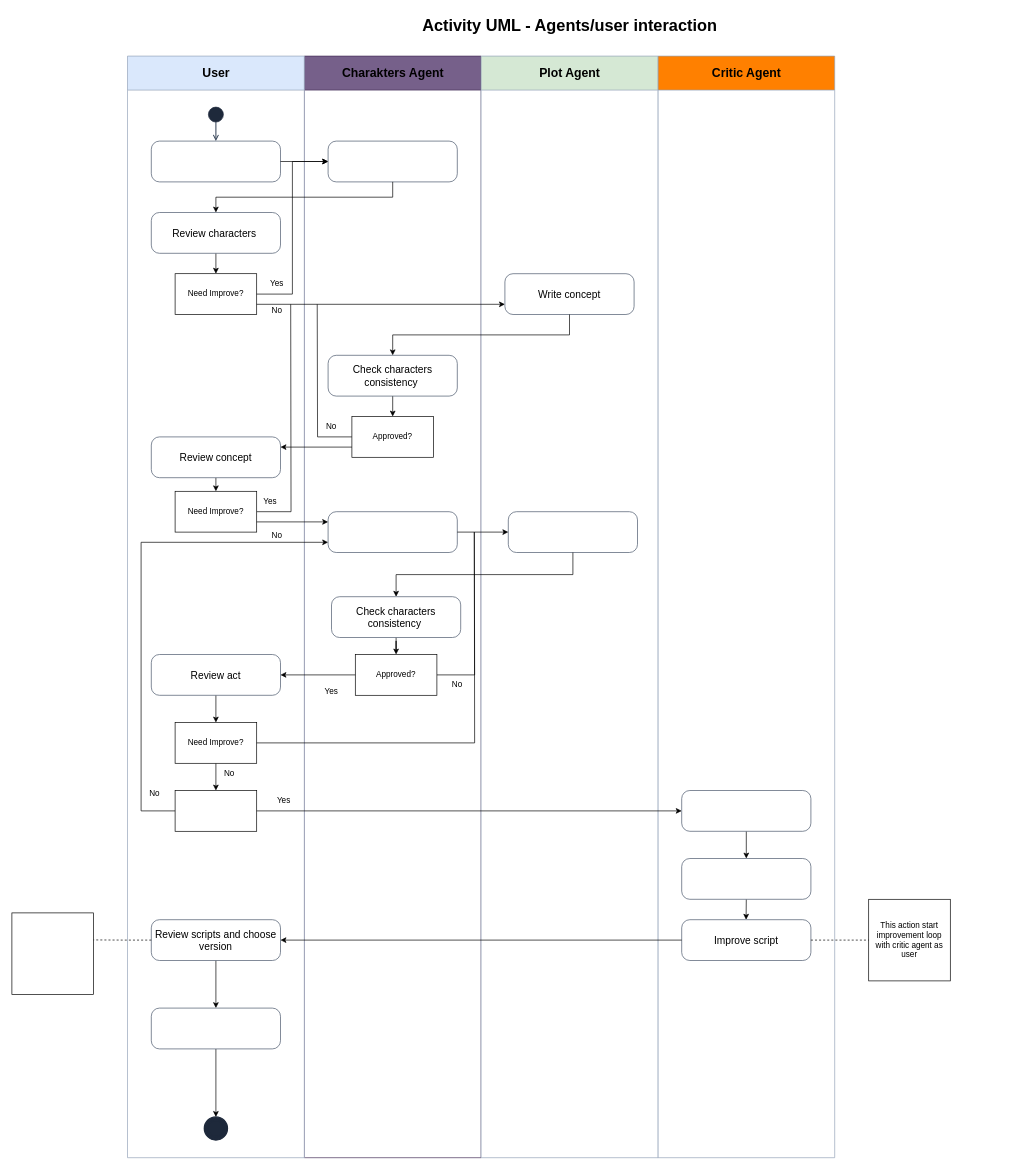
The diagram is 1023 pixels wide and 1170 high, and some of its shapes have lost their labels. The centre of each missing label's shape, as x and y in pixels:
Improvement loop (optional): [215,1028]
Last act: [215,810]
Provide initial idea: [215,161]
Read script: [746,810]
Safe characters state: [392,531]
User get review from critic agent, original script and critic improved script: [52,953]
Write Act 1/2/3...: [573,531]
Write characters: [392,161]
Write review for user: [746,878]
